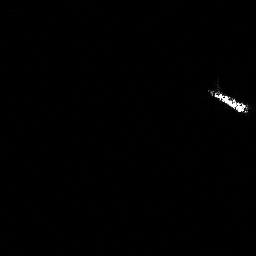ship: (205, 85, 253, 117)
